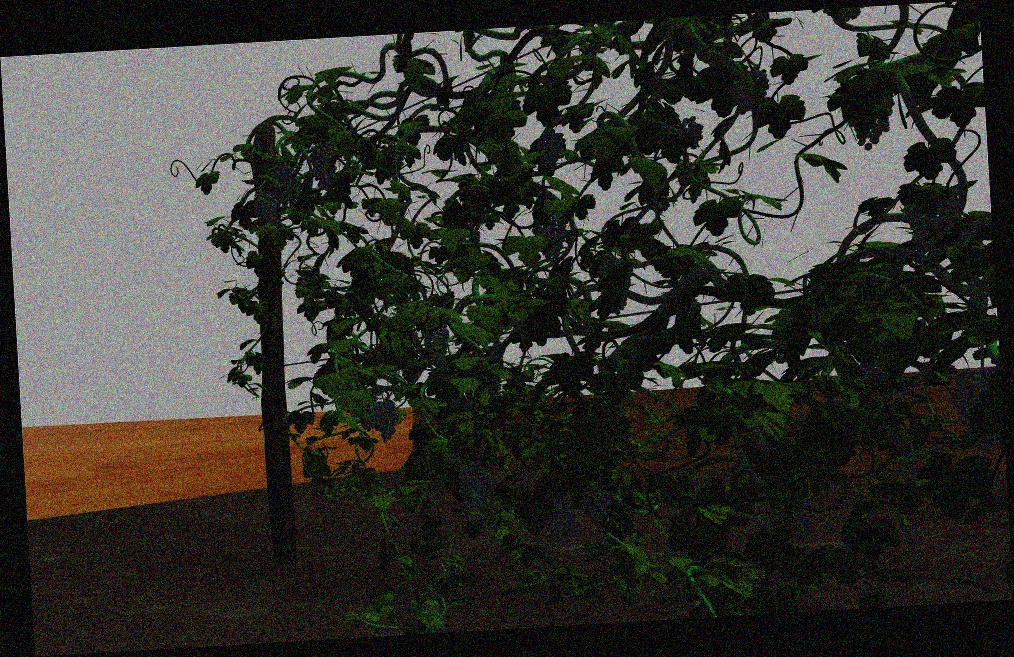grape: (950, 368, 998, 455), (905, 186, 963, 253), (772, 496, 817, 540), (533, 209, 568, 265), (728, 68, 770, 114), (662, 546, 693, 602), (457, 461, 489, 515), (544, 501, 578, 550), (368, 398, 401, 445), (310, 140, 339, 189), (535, 128, 567, 166), (422, 321, 450, 364), (675, 113, 705, 153), (583, 484, 611, 526), (269, 160, 295, 205), (253, 189, 277, 230)
